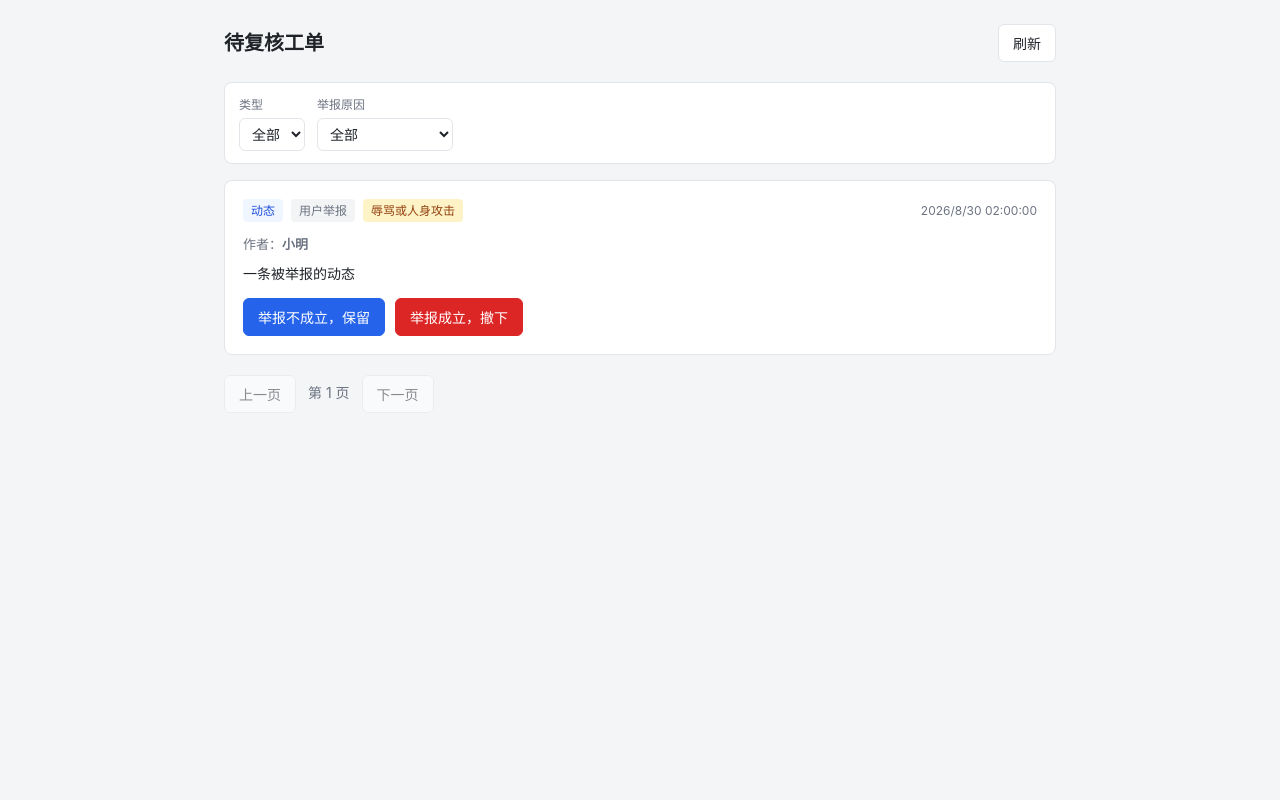
Test case: 工单列表页 › 点「撤下」先弹出驳回原因对话框，不直接提交
Click the button "举报成立，撤下": (459, 317) [395,298,523,336]
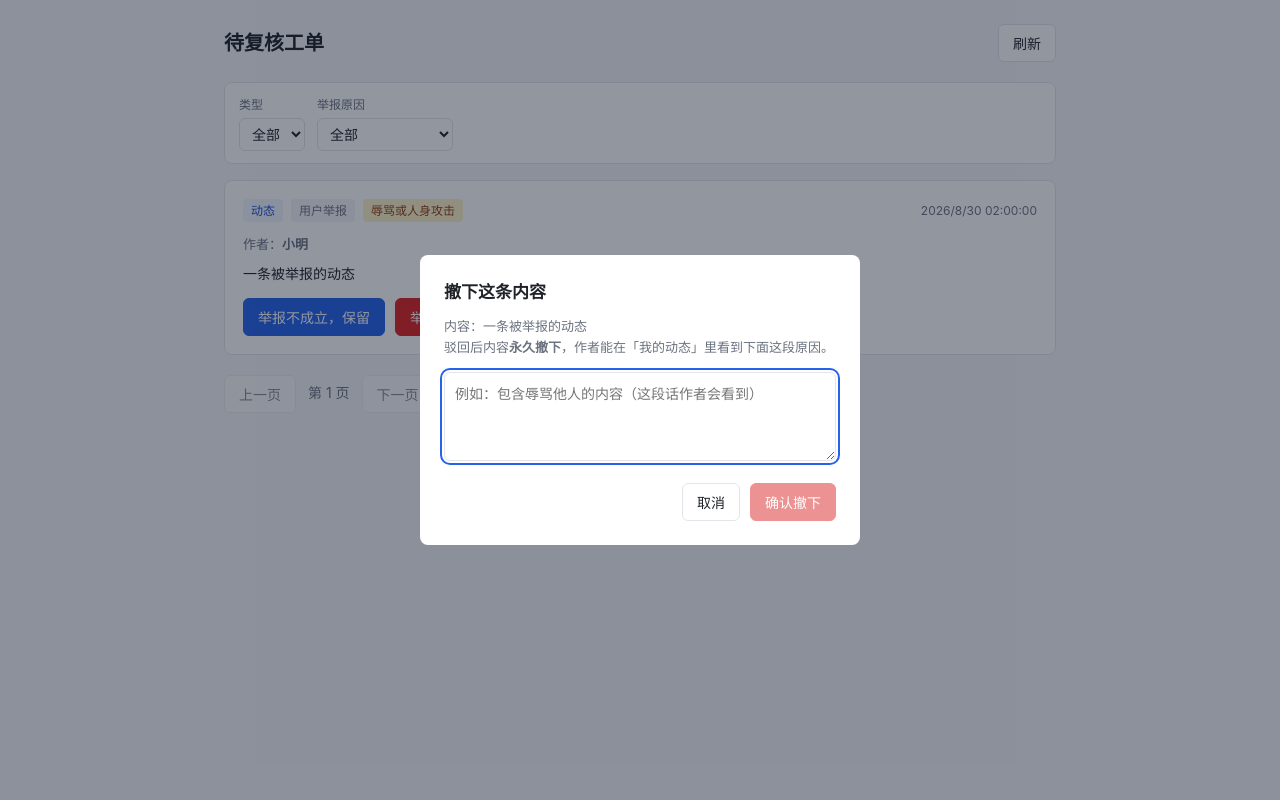
Now the dialog is shown, box [420,255,860,545]
